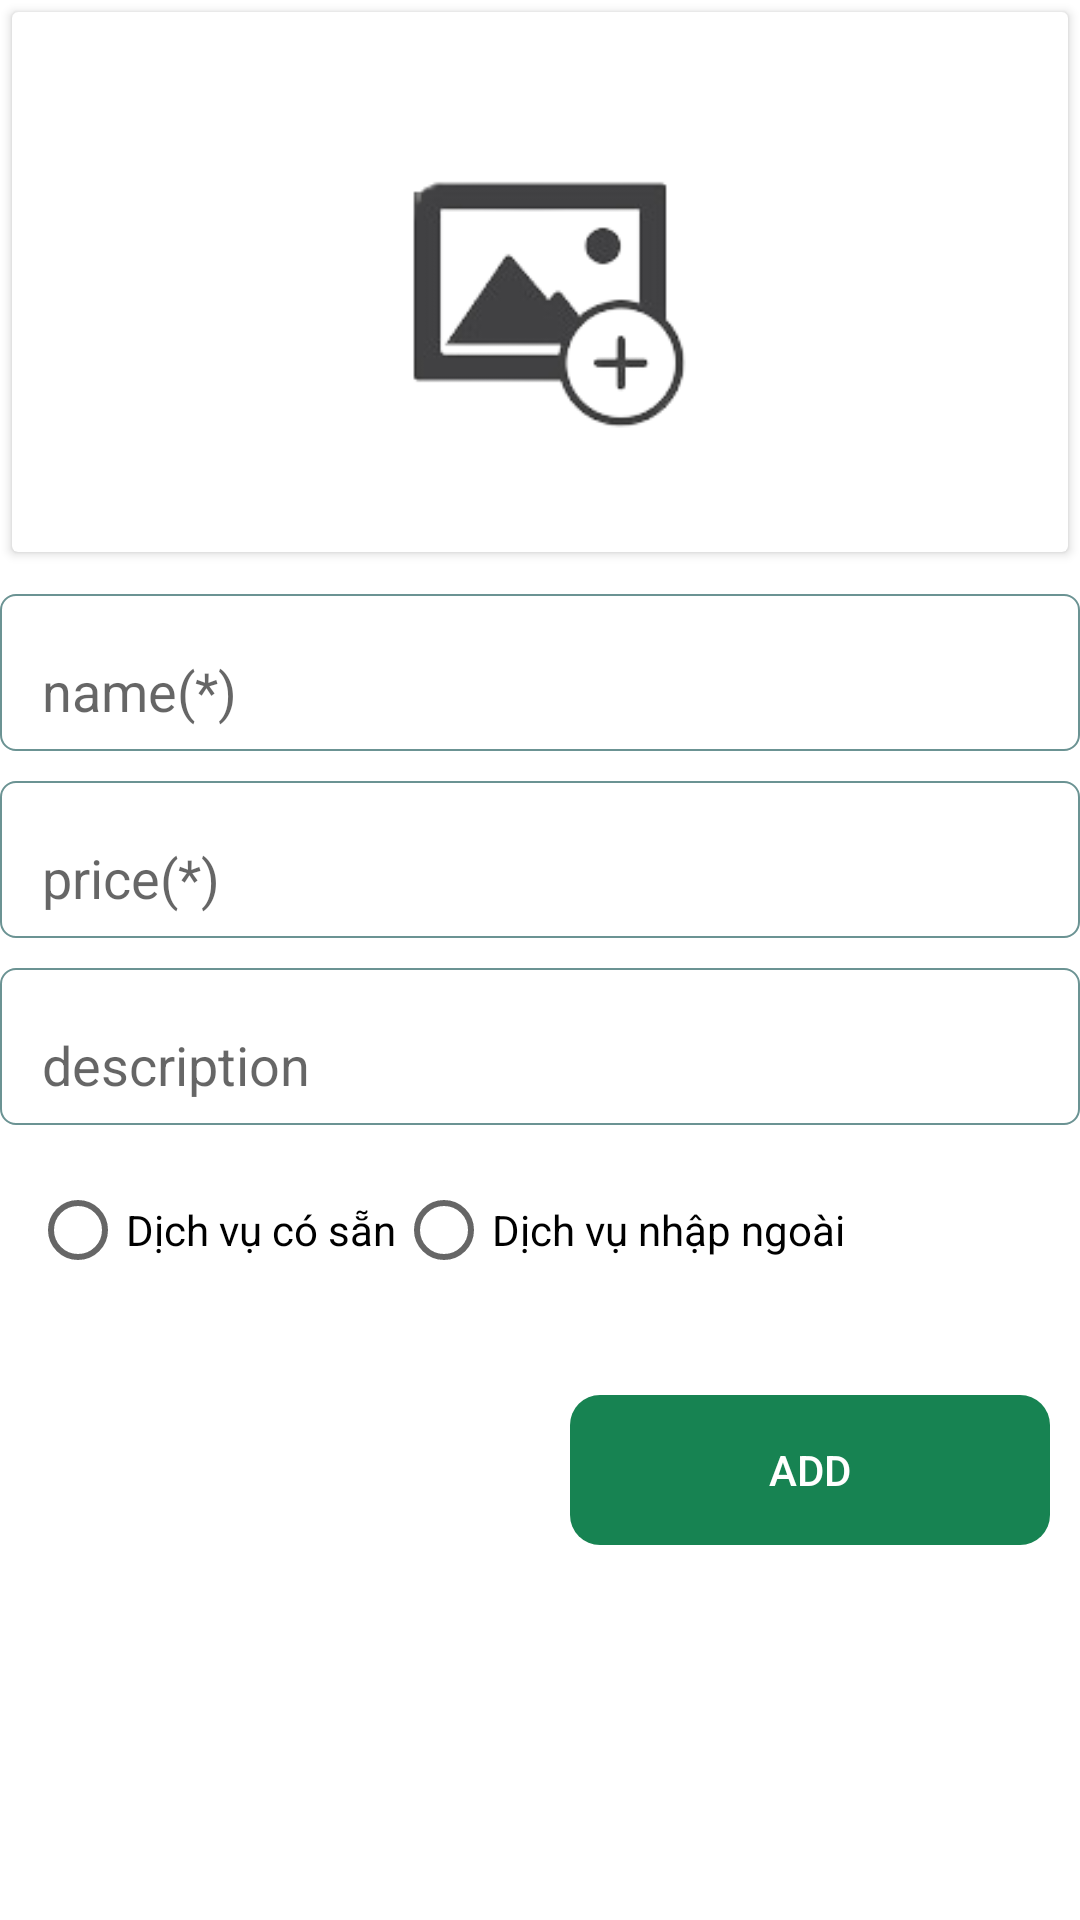

Icon click points for this 1080 × 1920 phone screenshot, format (x,y):
add: (549,304)
